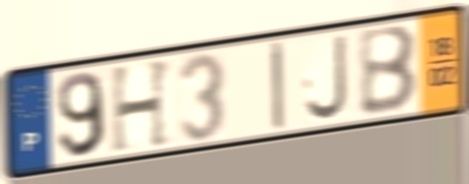3: (178, 46, 230, 148)
9: (55, 69, 108, 160)
B: (355, 22, 419, 119)
H: (108, 55, 175, 157)
I: (268, 37, 287, 135)
J: (302, 31, 351, 124)
